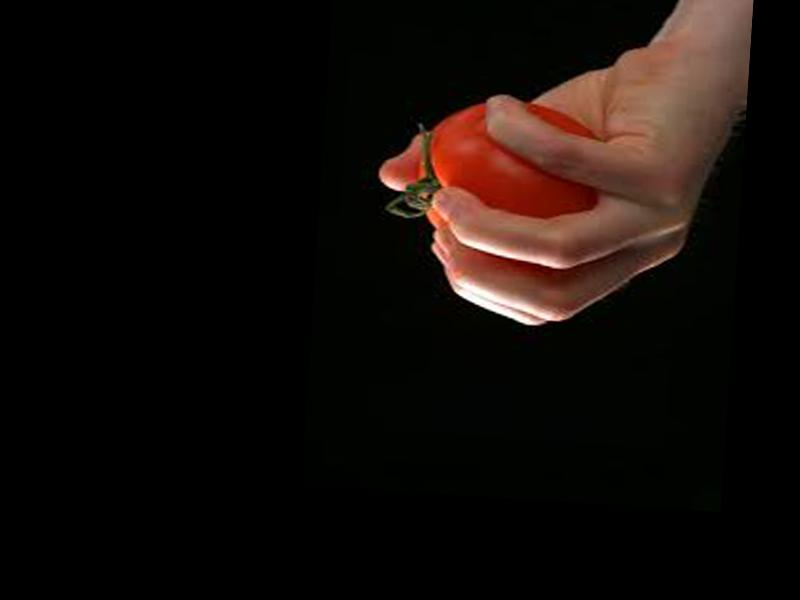Tomato: (423, 96, 609, 241)
